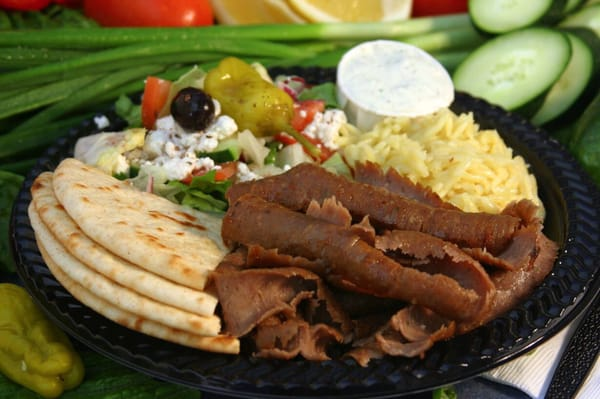soup: (217, 162, 517, 348)
sushi: (336, 40, 455, 133)
